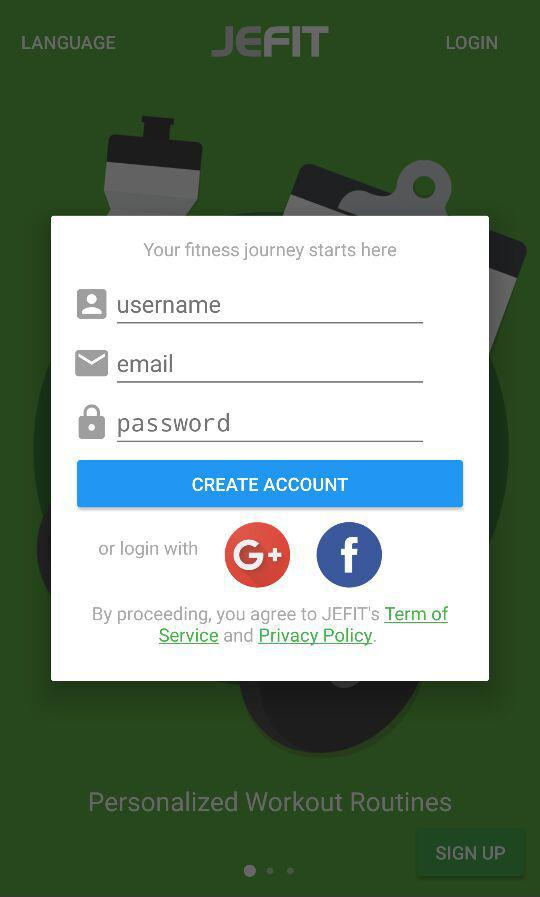EditText: (117, 413, 424, 443), (117, 354, 424, 384), (117, 299, 424, 325)
Icon: (316, 521, 383, 589), (224, 521, 291, 589), (78, 403, 107, 440), (77, 289, 108, 320), (75, 350, 109, 377)
Modal: (51, 216, 490, 682)
PageIndicator: (242, 864, 295, 879)
Text: (93, 606, 450, 647), (89, 790, 452, 814), (143, 242, 397, 262), (210, 25, 330, 59), (118, 413, 231, 438), (100, 540, 199, 560), (118, 300, 221, 314), (22, 36, 118, 51), (119, 353, 174, 373), (445, 36, 498, 52)
TextButton: (77, 460, 464, 508), (415, 828, 524, 878)
